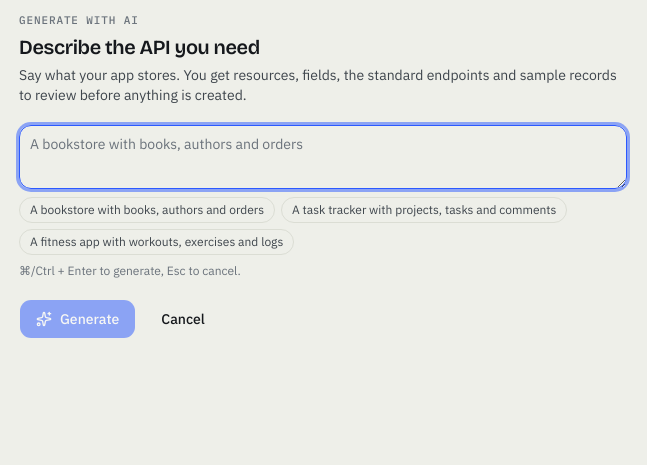
shows the server error with a Retry button
Type "A shop" into the text box named "Describe the API you need" at [323, 156], box [19,124,627,188]
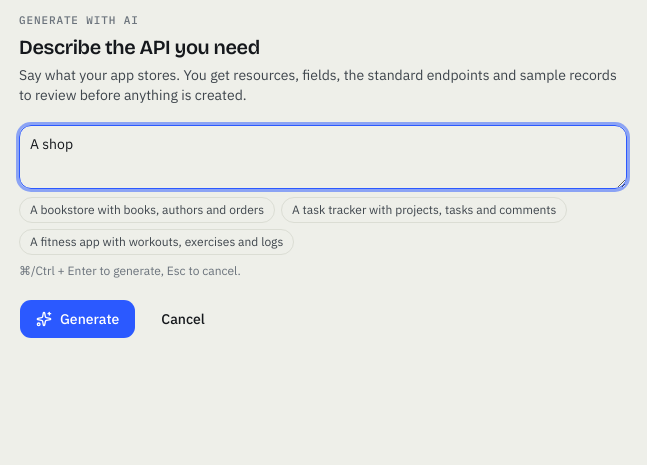
Click the button "Generate" at [78, 318], box [19,298,136,338]
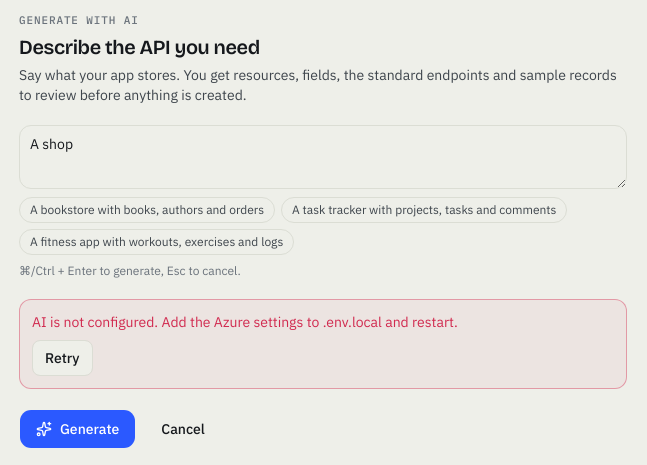
Check: the message shows "AI is not configured", box [32,312,458,330]
Check: the button "Retry" is shown, box [32,340,92,376]
